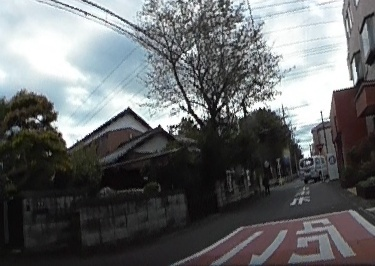person: (260, 169, 271, 193)
